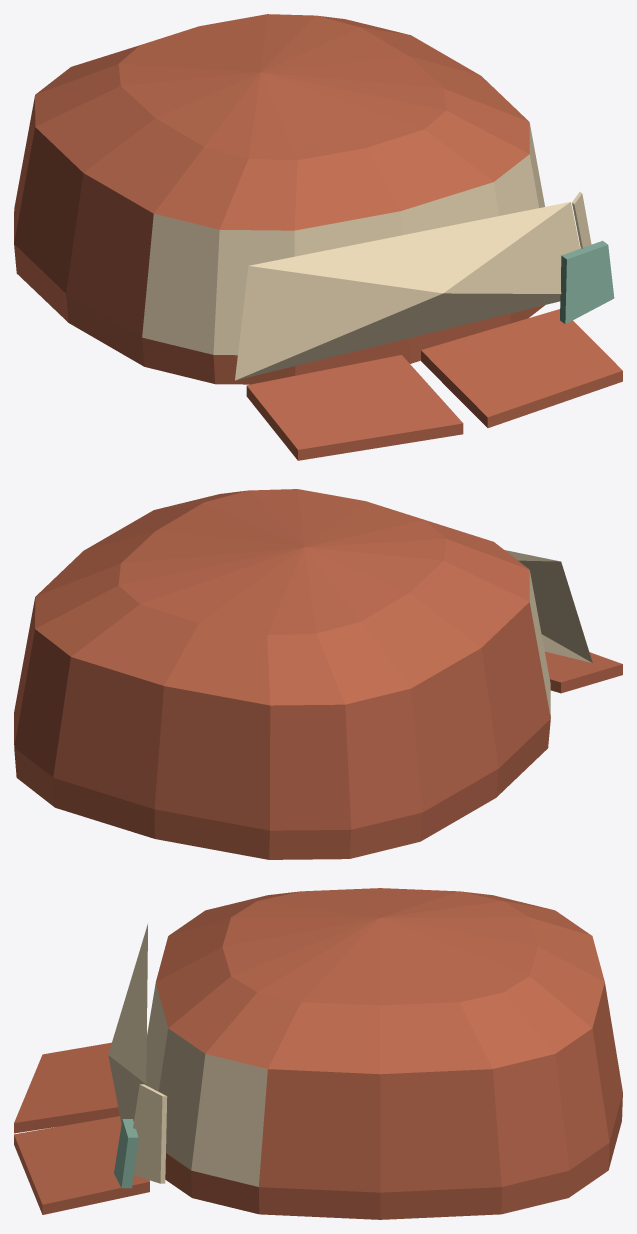
File: hat-kiln-folded.glb
The picture shows the model from 3 angles, top to bottom: view 1: azimuth 30°, elevation 25°; view 2: azimuth 150°, elevation 25°; view 3: azimuth 270°, elevation 25°; orthographic projection. The views are drawn at different scales.
Visible parts, largest first — view 1: hat-kiln-folded_ref2_hat-kiln-folded__head_mesh; view 2: hat-kiln-folded_ref2_hat-kiln-folded__head_mesh; view 3: hat-kiln-folded_ref2_hat-kiln-folded__head_mesh.
Part boxes in pixels (<box>): hat-kiln-folded_ref2_hat-kiln-folded__head_mesh: <box>14,14,622,460</box>; hat-kiln-folded_ref2_hat-kiln-folded__head_mesh: <box>14,489,622,859</box>; hat-kiln-folded_ref2_hat-kiln-folded__head_mesh: <box>14,888,622,1219</box>.
Bounding box in the file's own units: 0.498 × 0.246 × 0.64.
